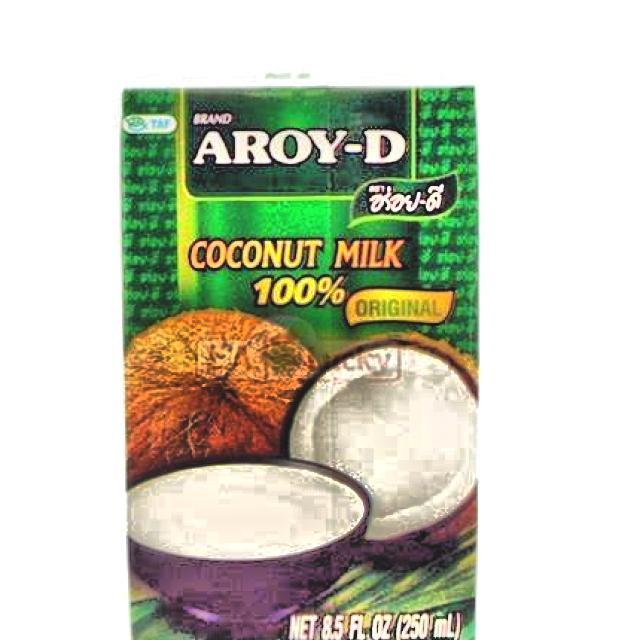cardboard: (119, 83, 481, 640)
